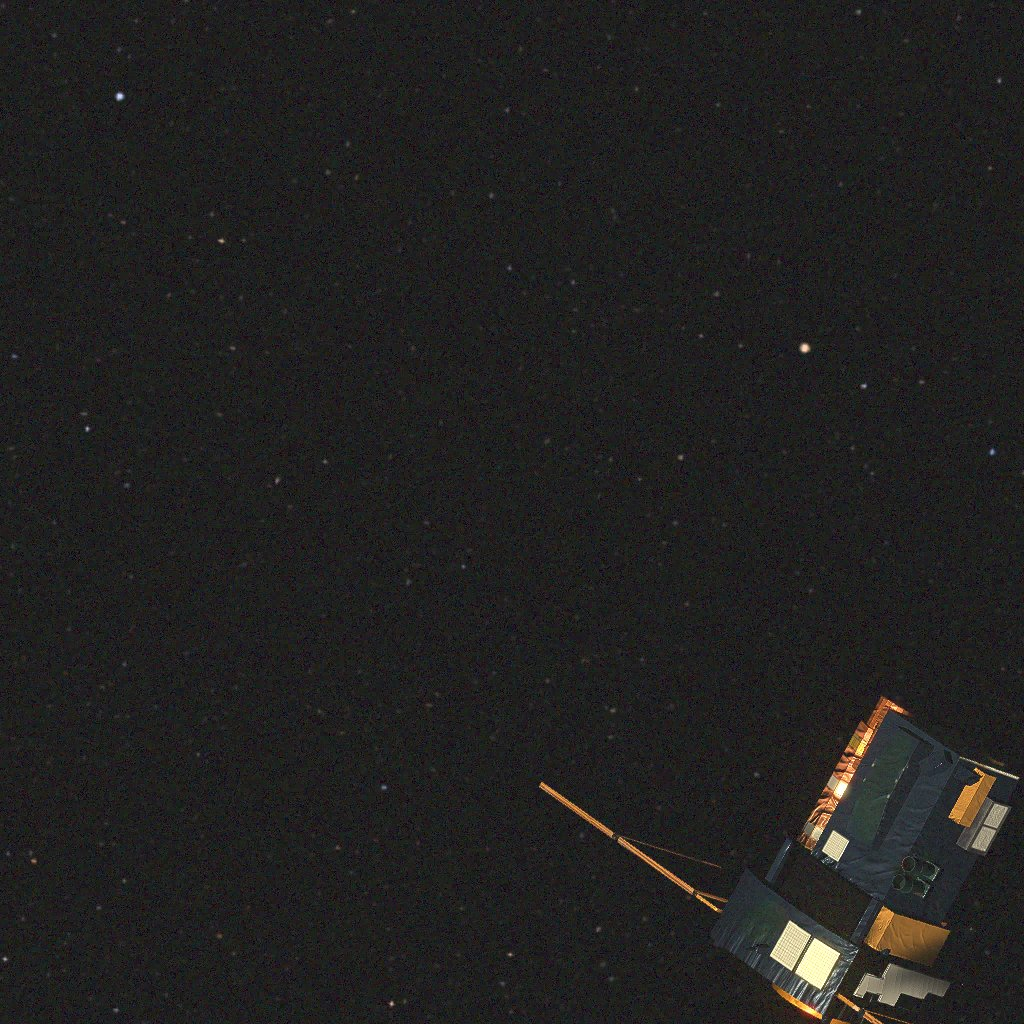soho: (529, 686, 1003, 1011)
